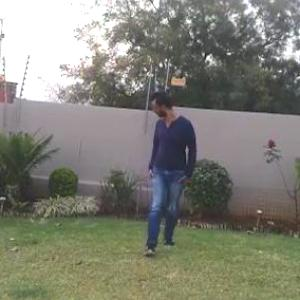follow: (133, 78, 196, 276)
